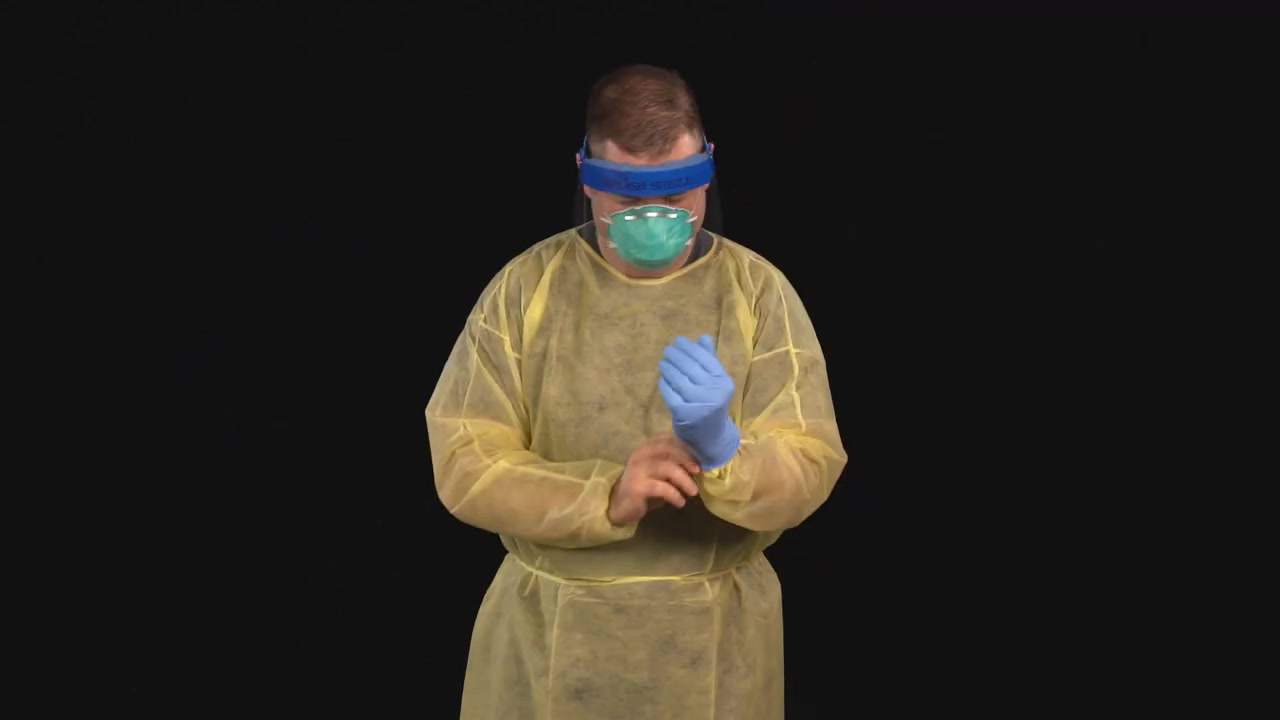Coverall: (470, 224, 810, 716)
Face_Shield: (554, 136, 724, 301)
Gloves: (655, 330, 740, 470)
with_mask: (596, 198, 694, 268)
